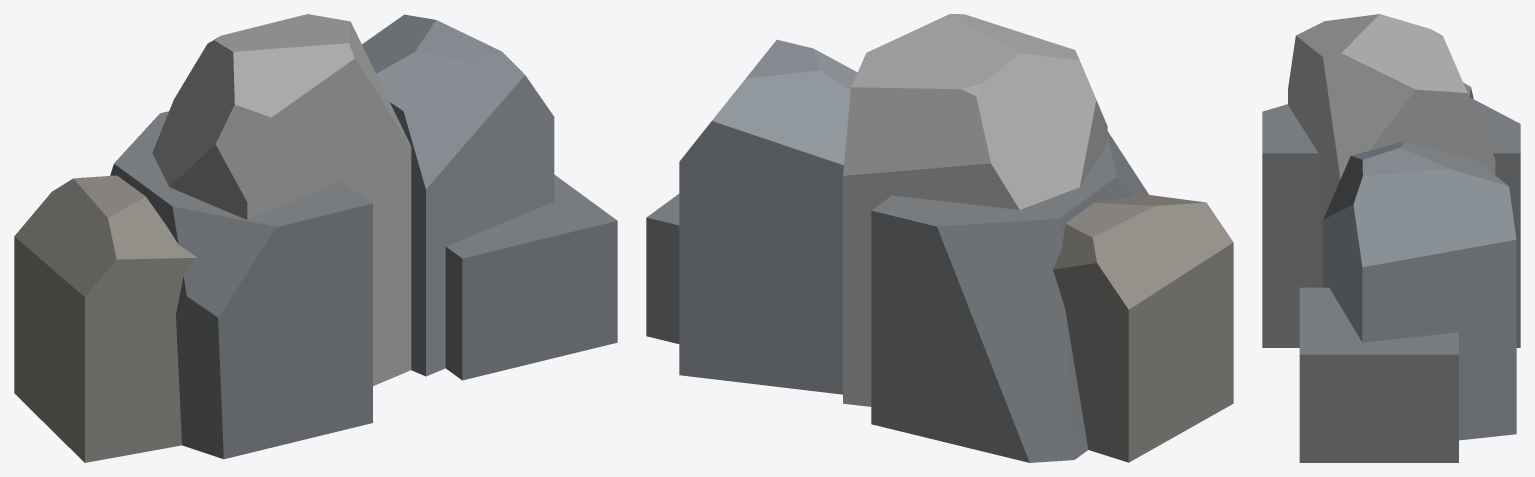
The model's file is Rock_Wall_04 6.fbx.
3 views of the same model, side by side, from view 1: azimuth 30°, elevation 25°; view 2: azimuth 150°, elevation 25°; view 3: azimuth 270°, elevation 25° (orthographic). The views are drawn at different scales.
Parts seen in each view (by area): view 1: Rock_Wall_04; view 2: Rock_Wall_04; view 3: Rock_Wall_04.
Boxes of the visible parts, x1,y1,x2,y2 form: Rock_Wall_04: [14, 14, 617, 462]; Rock_Wall_04: [646, 14, 1233, 462]; Rock_Wall_04: [1262, 14, 1520, 462].
Size of the model in its own units: 673 by 421 by 325.
